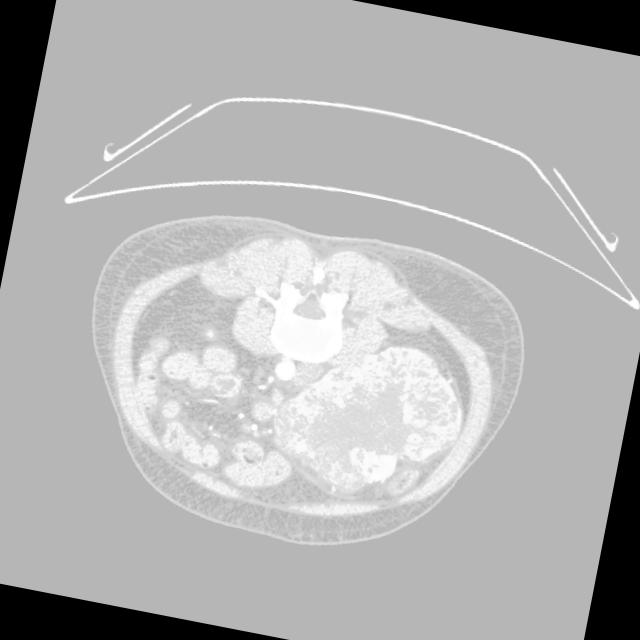TUMOR: (45, 98, 551, 574)
